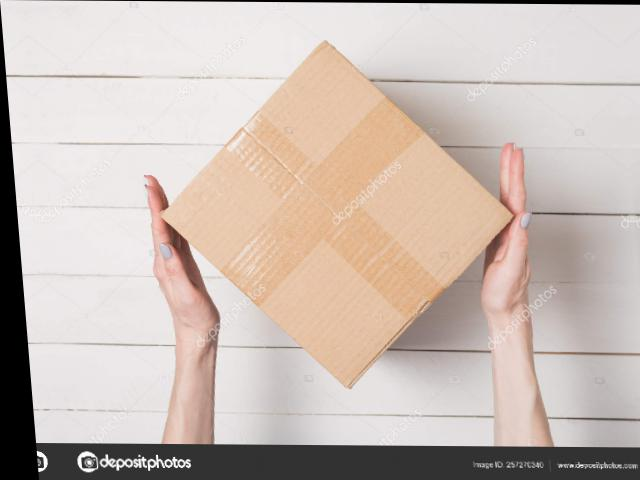package: (154, 26, 522, 393)
